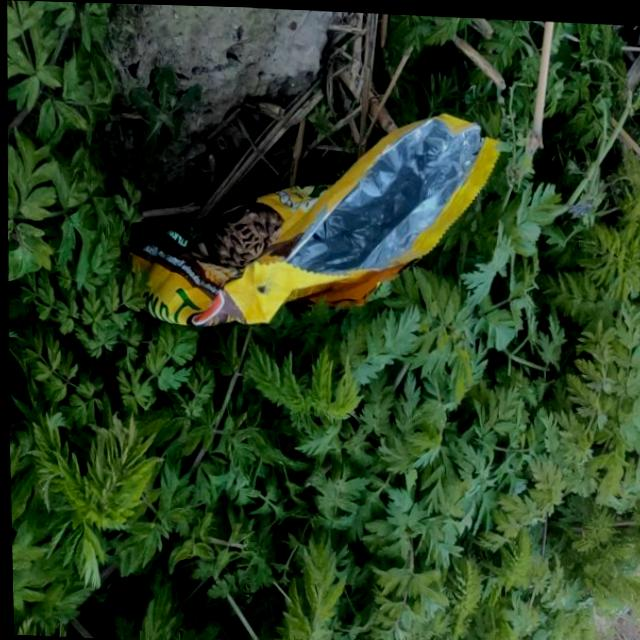Plastic: (115, 93, 505, 339)
